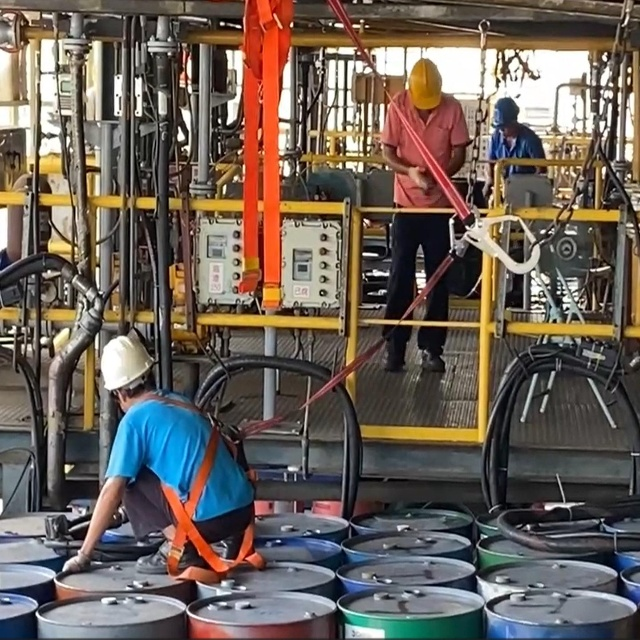Arnes_seguridad: (126, 395, 265, 574)
